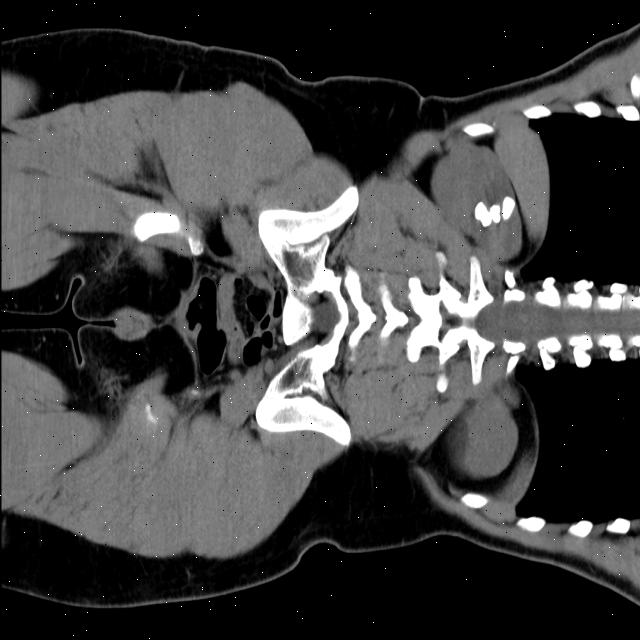kidneystone: (474, 202, 500, 226), (502, 196, 515, 221)
